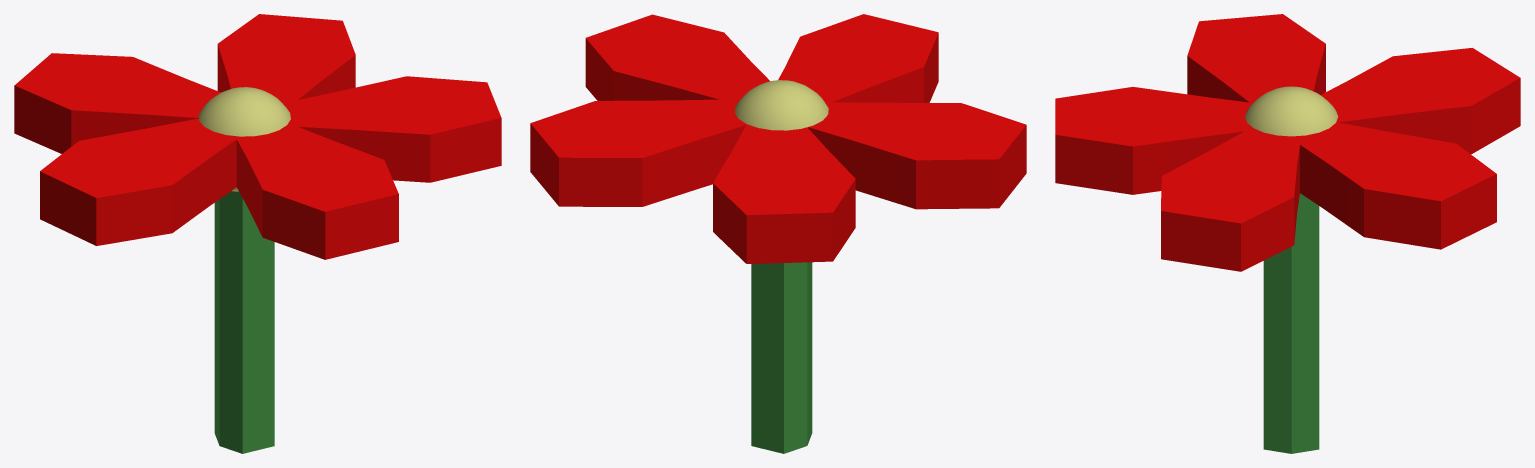
File: flower.fbx
3 views of the same model, side by side, from view 1: azimuth 30°, elevation 25°; view 2: azimuth 150°, elevation 25°; view 3: azimuth 270°, elevation 25° (orthographic).
Visible parts, largest first — view 1: pCube2, pCube1, pCube5, pCylinder1, pCube3, pCube4, pSphere1; view 2: pCube4, pCube2, pCube3, pCube5, pCylinder1, pCube1, pSphere1; view 3: pCube4, pCube5, pCube1, pCube3, pCylinder1, pCube2, pSphere1.
Boxes of the visible parts, x1,y1,x2,y2 form: pCube2: [40, 118, 239, 245]; pCube1: [236, 123, 398, 259]; pCube5: [283, 76, 501, 182]; pCylinder1: [214, 191, 274, 453]; pCube3: [14, 53, 220, 153]; pCube4: [217, 14, 355, 108]; pSphere1: [198, 87, 290, 191]; pCube4: [530, 99, 746, 206]; pCube2: [808, 102, 1026, 209]; pCube3: [713, 124, 855, 263]; pCube5: [585, 14, 769, 100]; pCylinder1: [751, 262, 812, 453]; pCube1: [778, 14, 938, 104]; pSphere1: [734, 80, 828, 130]; pCube4: [1289, 122, 1496, 249]; pCube5: [1161, 130, 1300, 271]; pCube1: [1055, 87, 1256, 194]; pCube3: [1320, 48, 1520, 154]; pCylinder1: [1263, 193, 1319, 453]; pCube2: [1187, 14, 1325, 103]; pSphere1: [1245, 86, 1338, 136].
Size of the model in its own units: 9.29 by 7.24 by 8.72.
